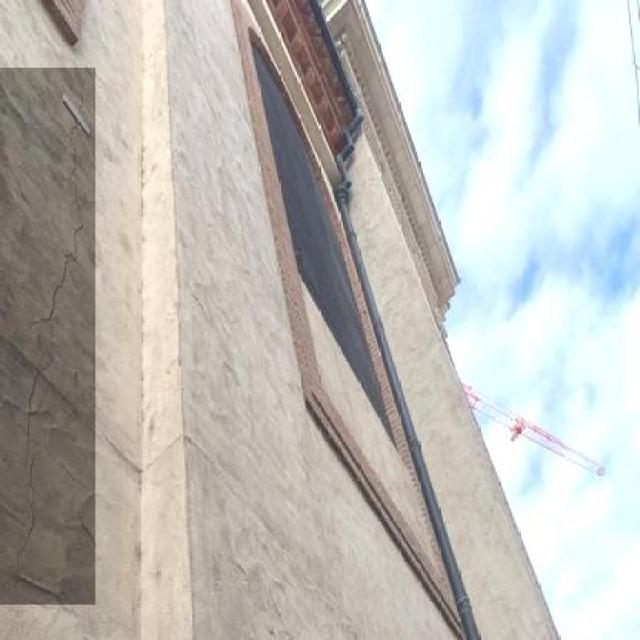Crack: (0, 72, 94, 602)
